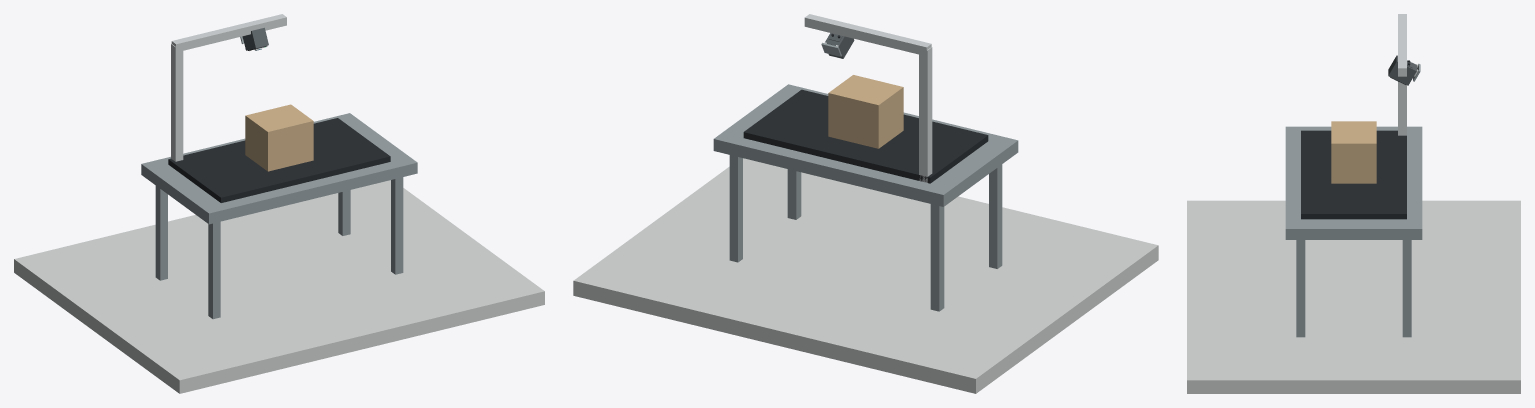
3 views of the same model, side by side, from view 1: azimuth 30°, elevation 25°; view 2: azimuth 150°, elevation 25°; view 3: azimuth 270°, elevation 25° (orthographic). The views are drawn at different scales.
Visible parts, largest first — view 1: Floor, Operator presentation surface, Work table, Item to scan, Scanner post, Scanner arm, Table leg.002, Table leg, Table leg.001, Table leg.003; view 2: Floor, Operator presentation surface, Work table, Item to scan, Scanner post, Scanner arm, Table leg.001, Table leg.003, Table leg, Table leg.002; view 3: Floor, Operator presentation surface, Work table, Item to scan, Table leg.002, Table leg.003, Scanner arm, Scanner post, housing.
Part boxes in pixels (x1,y1,x2,y2): Floor: (14,180,544,393); Operator presentation surface: (168,118,390,202); Work table: (141,113,417,224); Item to scan: (245,104,313,171); Scanner post: (171,44,183,161); Scanner arm: (171,14,286,52); Table leg.002: (391,177,403,274); Table leg: (208,221,220,319); Table leg.001: (155,185,167,280); Table leg.003: (338,190,350,235); Floor: (573,158,1158,393); Operator presentation surface: (743,89,988,183); Work table: (713,84,1018,206); Item to scan: (828,75,903,148); Scanner post: (919,47,932,182); Scanner arm: (804,14,931,54); Table leg.001: (930,204,944,311); Table leg.003: (729,155,742,262); Table leg: (989,164,1002,268); Table leg.002: (787,169,801,219); Floor: (1187,200,1520,393); Operator presentation surface: (1301,130,1406,219); Work table: (1285,126,1422,239); Item to scan: (1331,121,1376,183); Table leg.002: (1296,240,1305,337); Table leg.003: (1402,240,1411,337); Scanner arm: (1398,14,1406,76); Scanner post: (1398,81,1406,135); housing: (1388,55,1416,85).
Size of the model in its own units: 2.8 by 1.82 by 2.2.
